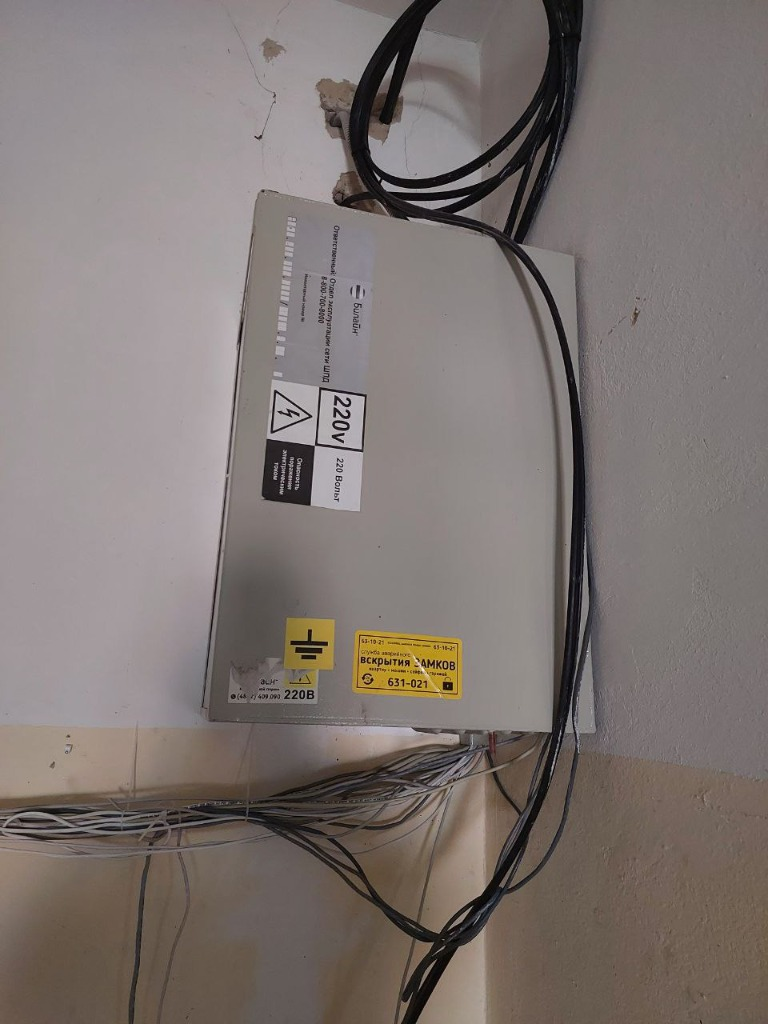sv-5: (193, 186, 598, 739)
